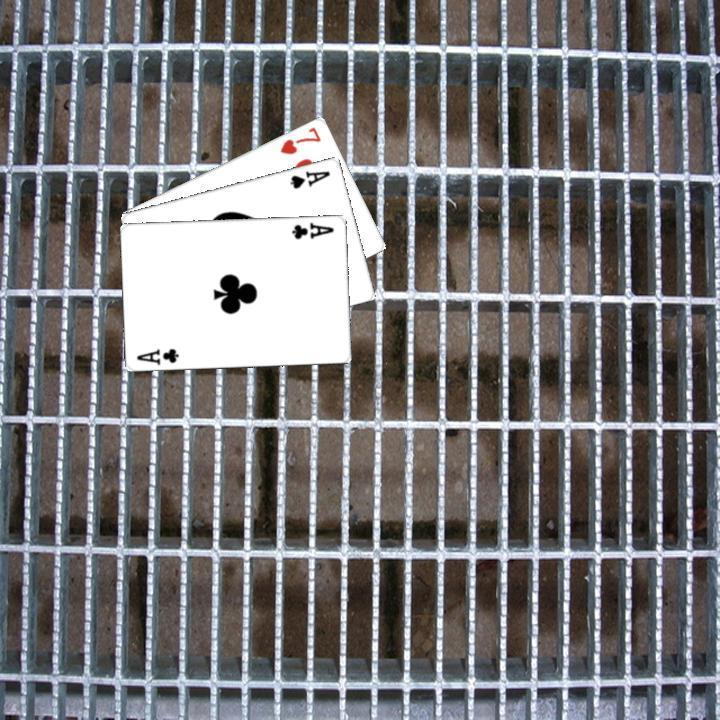7: (276, 122, 323, 156)
A: (286, 166, 332, 190), (288, 218, 336, 241), (133, 343, 181, 366)
